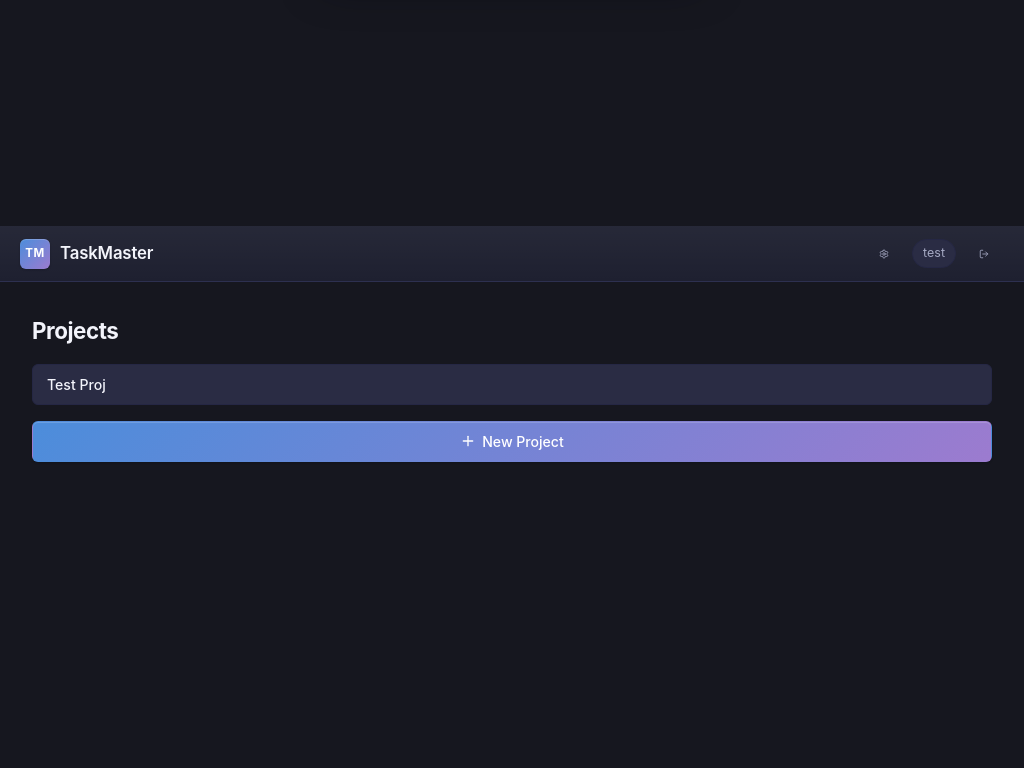
App › lane drag over a task resolves target lane and reorders lanes
(page scrolled)
Step 1. Click the button "Test Proj" → click(76, 384), box [32, 364, 992, 405]
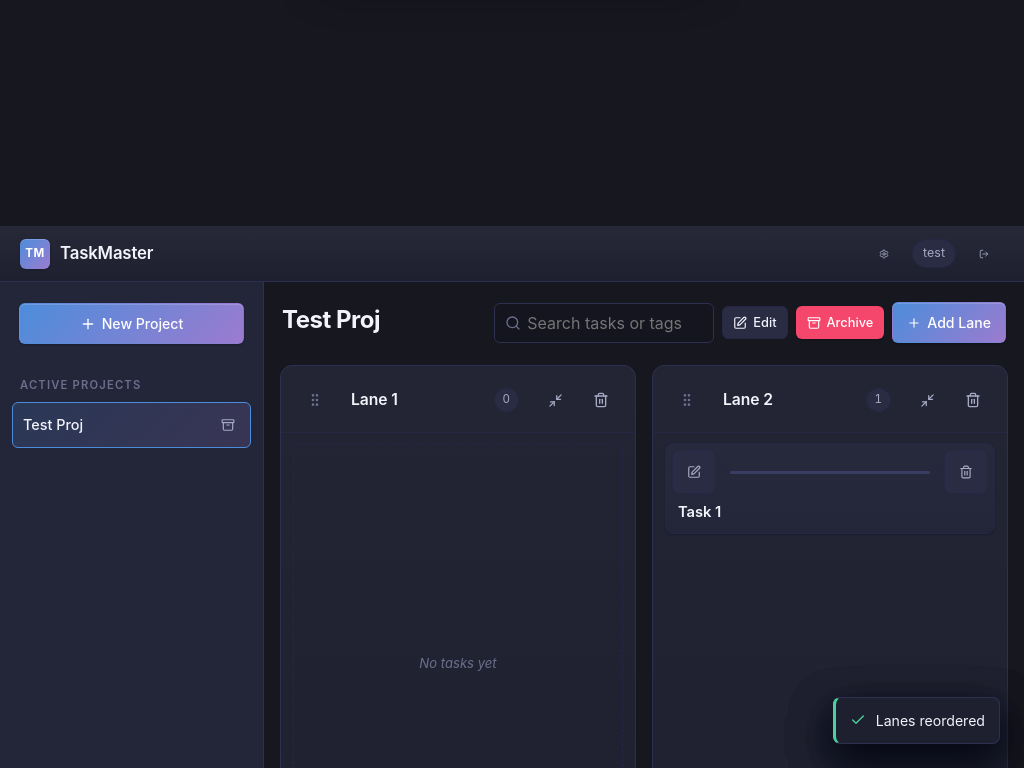
expect the text "Task 1" is shown: met, box [678, 503, 721, 521]
